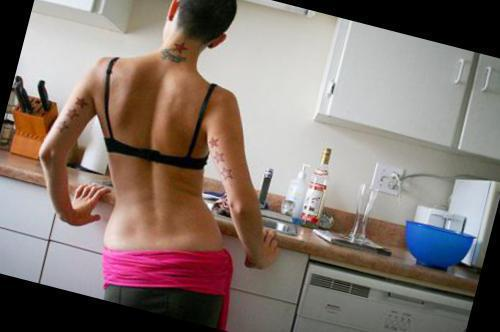Lavaplatos: (149, 139, 314, 237)
